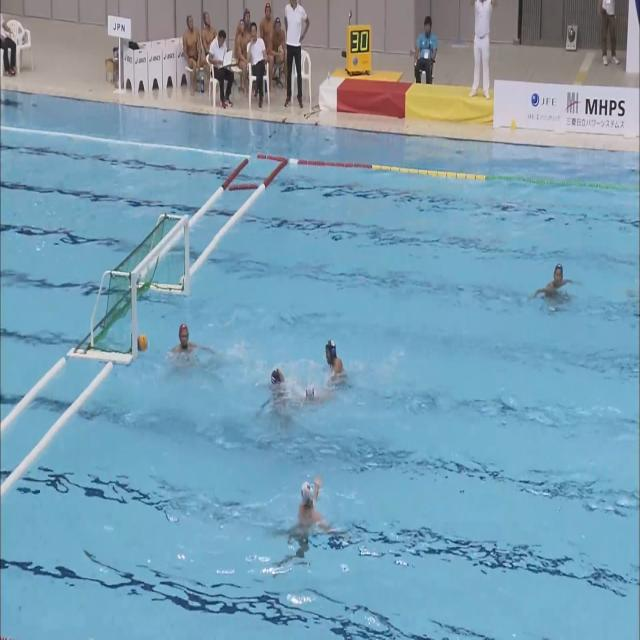ball: (137, 335, 148, 352)
